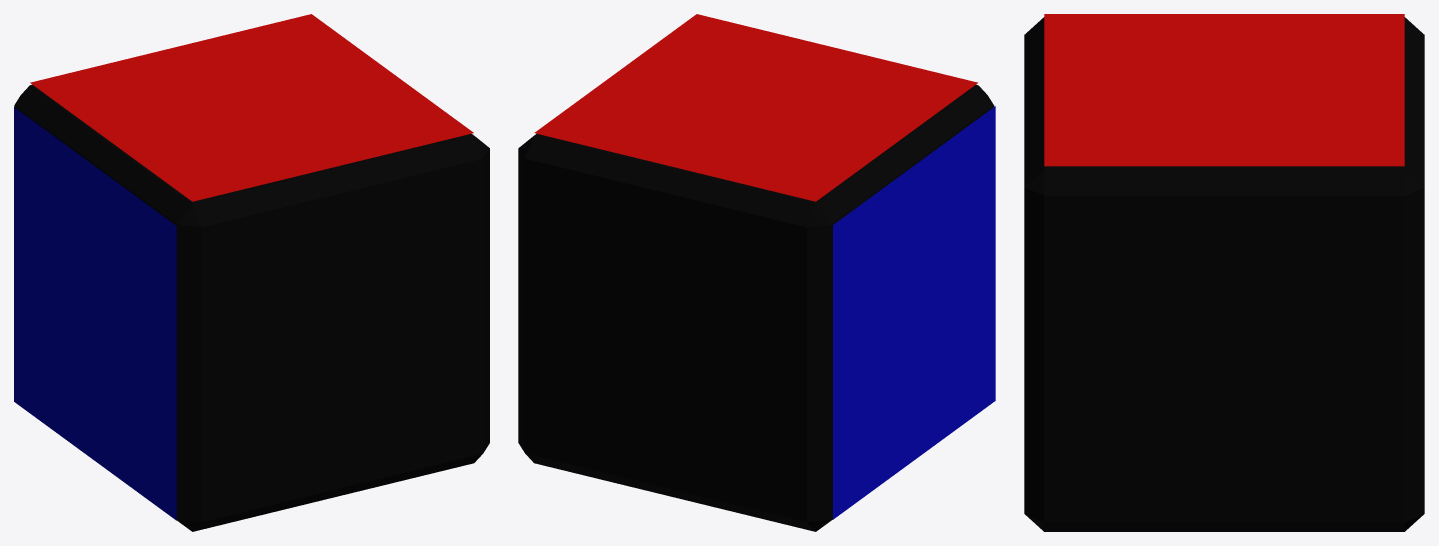
The model's file is rubic8.obj.
The picture shows the model from 3 angles, left to right: view 1: azimuth 30°, elevation 25°; view 2: azimuth 150°, elevation 25°; view 3: azimuth 270°, elevation 25°; orthographic projection. The views are drawn at different scales.
Parts seen in each view (by area): view 1: Cube.005_Cube.006; view 2: Cube.005_Cube.006; view 3: Cube.005_Cube.006.
Part boxes in pixels (x1,y1,x2,y2): Cube.005_Cube.006: (14,14,489,531); Cube.005_Cube.006: (518,14,995,531); Cube.005_Cube.006: (1024,14,1424,531).
Size of the model in its own units: 2 by 2.02 by 2.
